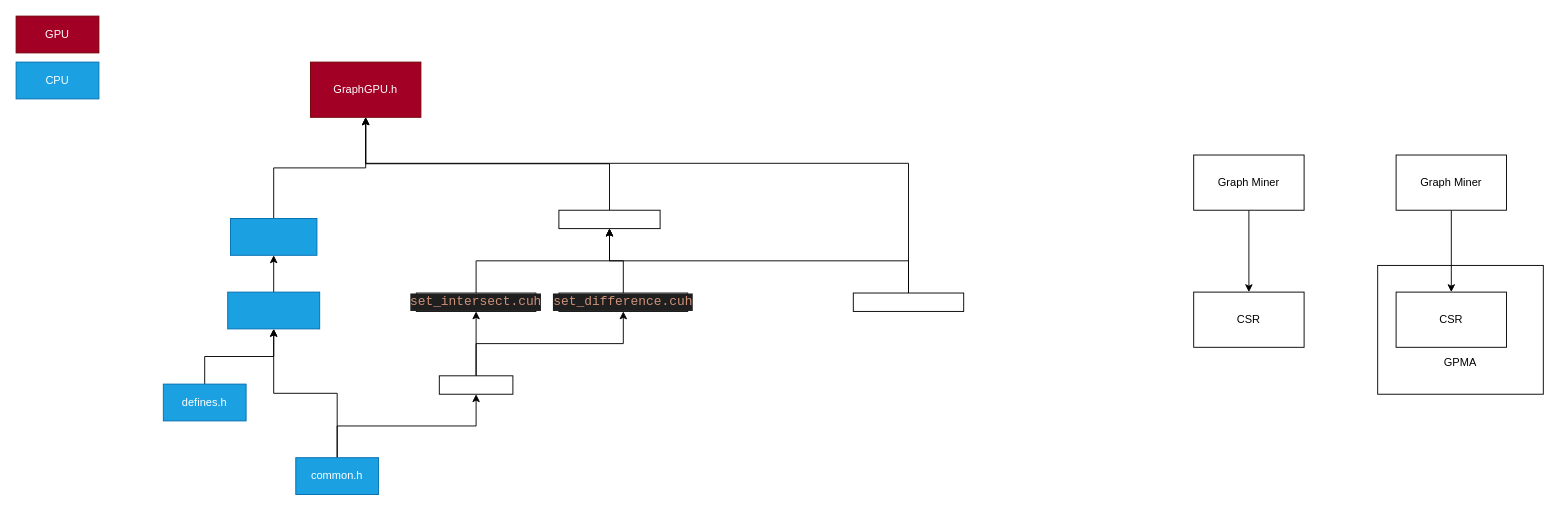
This 1559x511 diagram has some shape labels left out. The centre of each missing label's shape, as x and y in pixels:
"cutil_subset.cuh" belongs at (908,301).
"Graph.h" belongs at (273,236).
"operations.cuh" belongs at (609,219).
"search.cuh" belongs at (475,384).
"VertexSet.h" belongs at (273,310).
